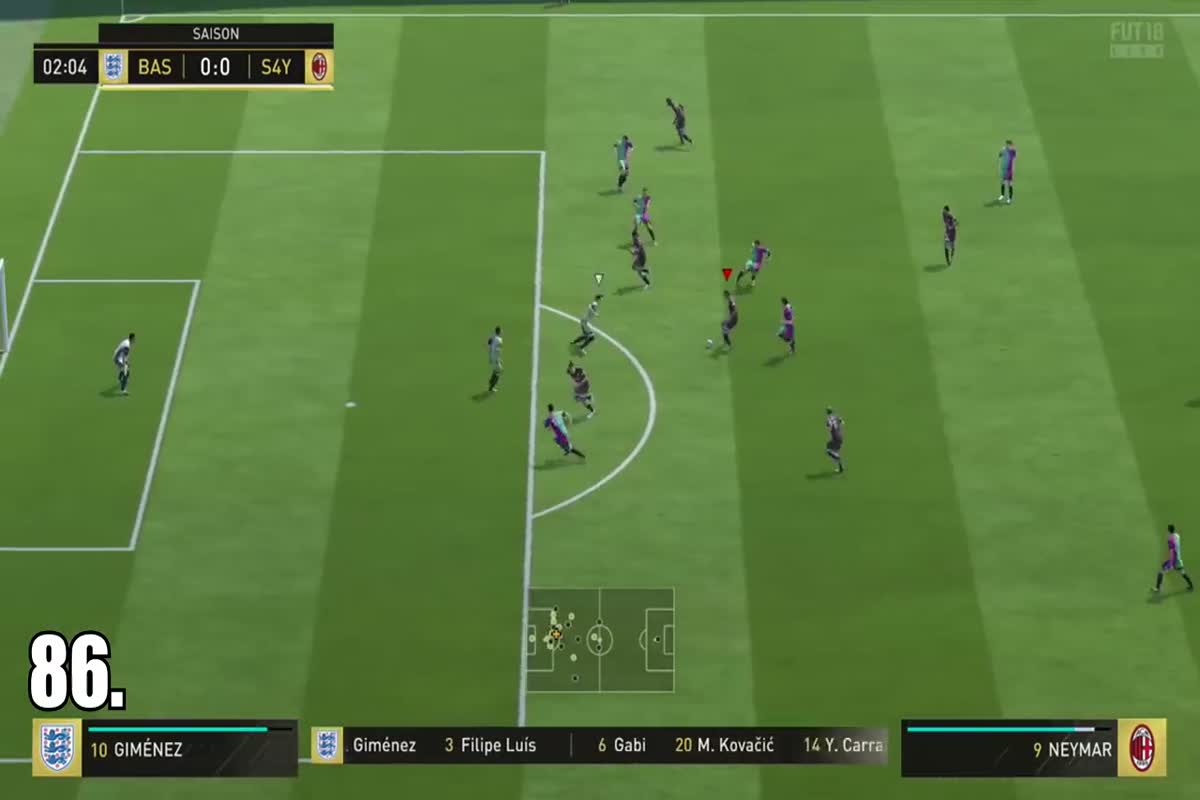ball: (700, 332, 721, 352)
